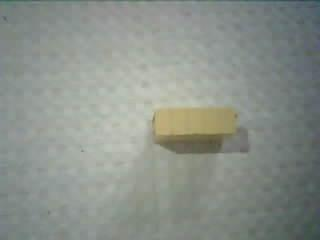lego: (149, 104, 240, 142)
